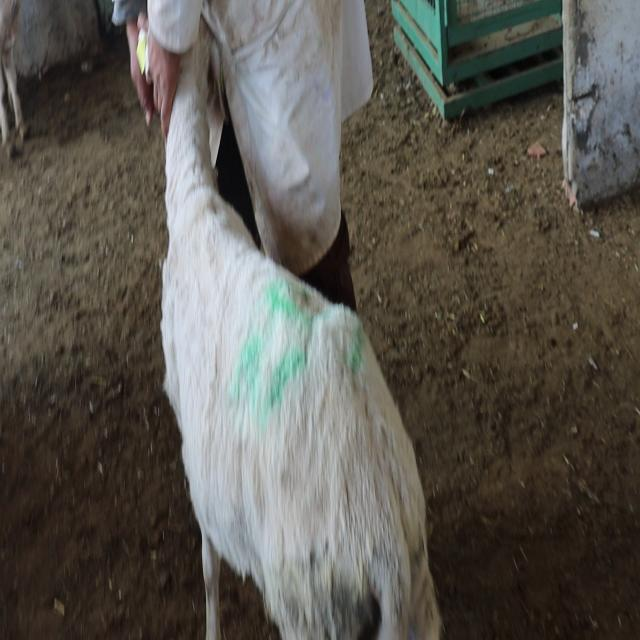Score_2: (161, 29, 442, 639)
